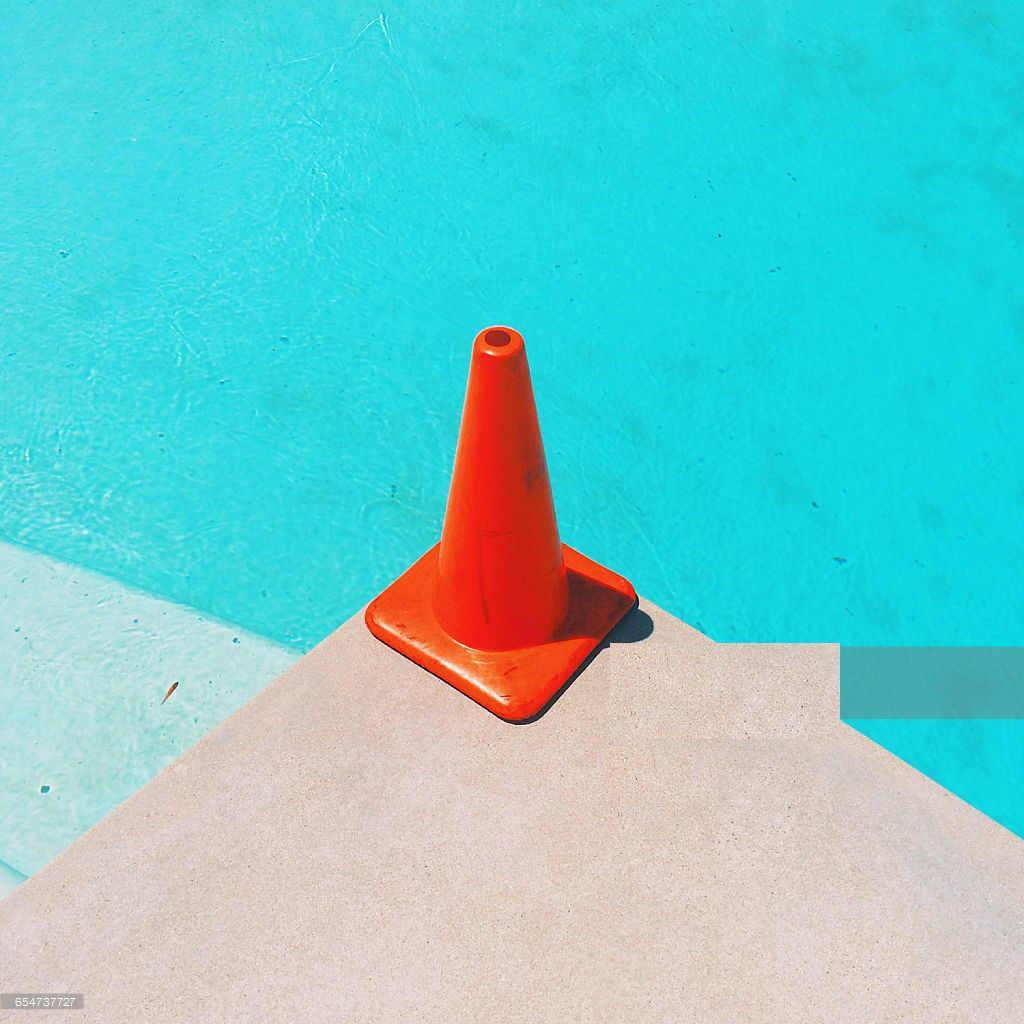Cone: (365, 324, 645, 733)
